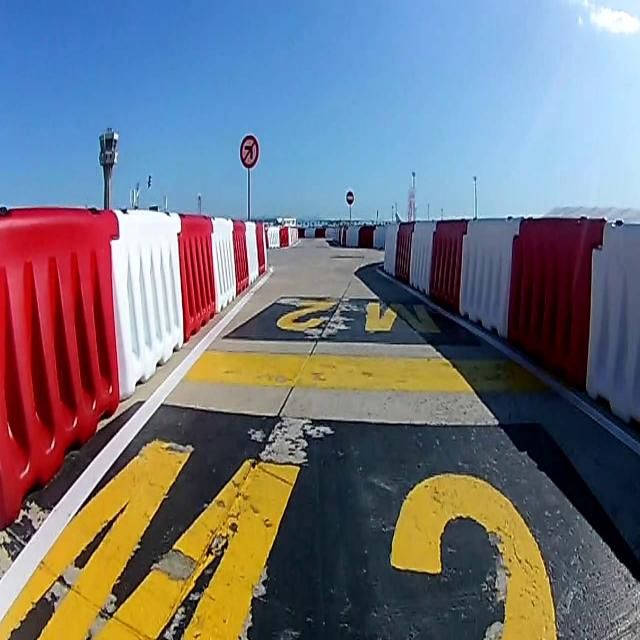girisyok: (346, 191, 354, 205)
soladonulmez: (240, 134, 258, 168)
